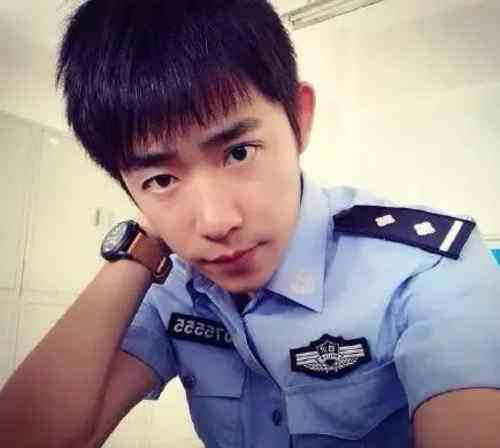person: (41, 20, 455, 448)
